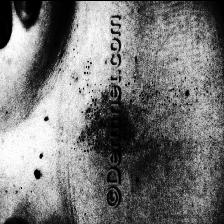Non-Cancerous Skin Condition: (48, 46, 106, 200), (124, 38, 168, 162)
